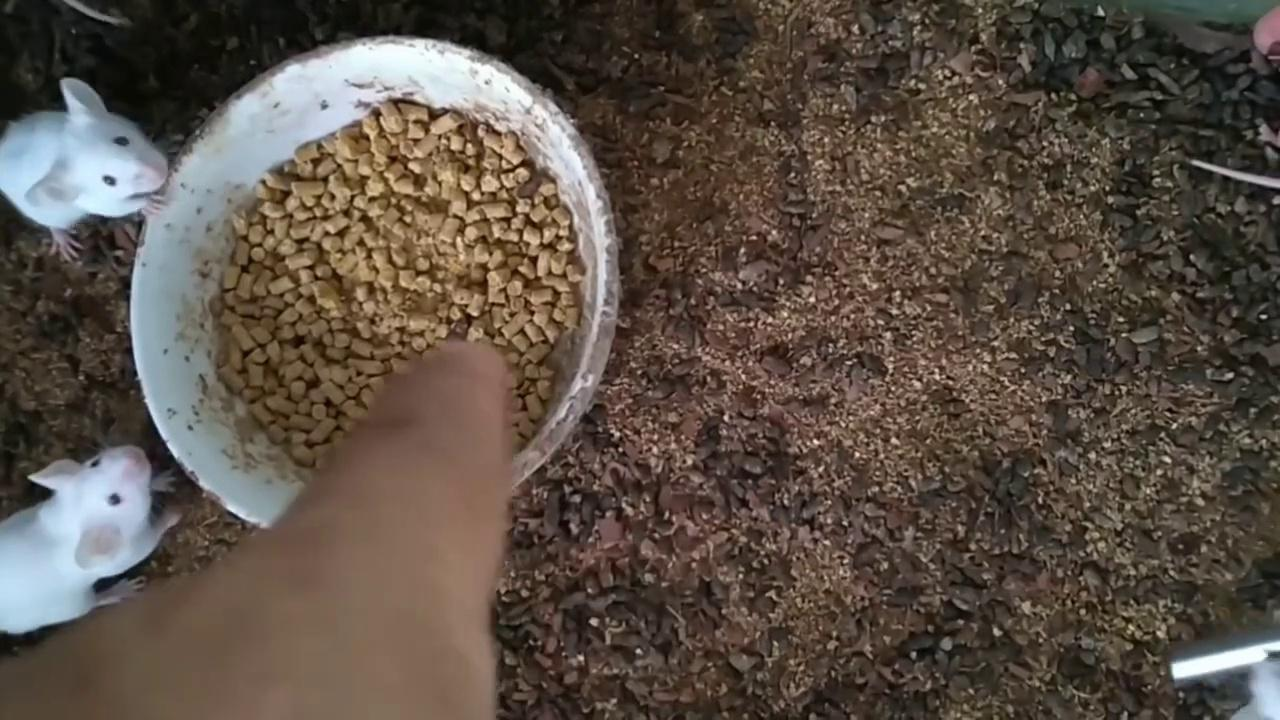rat: (0, 446, 182, 636), (0, 77, 170, 263)
